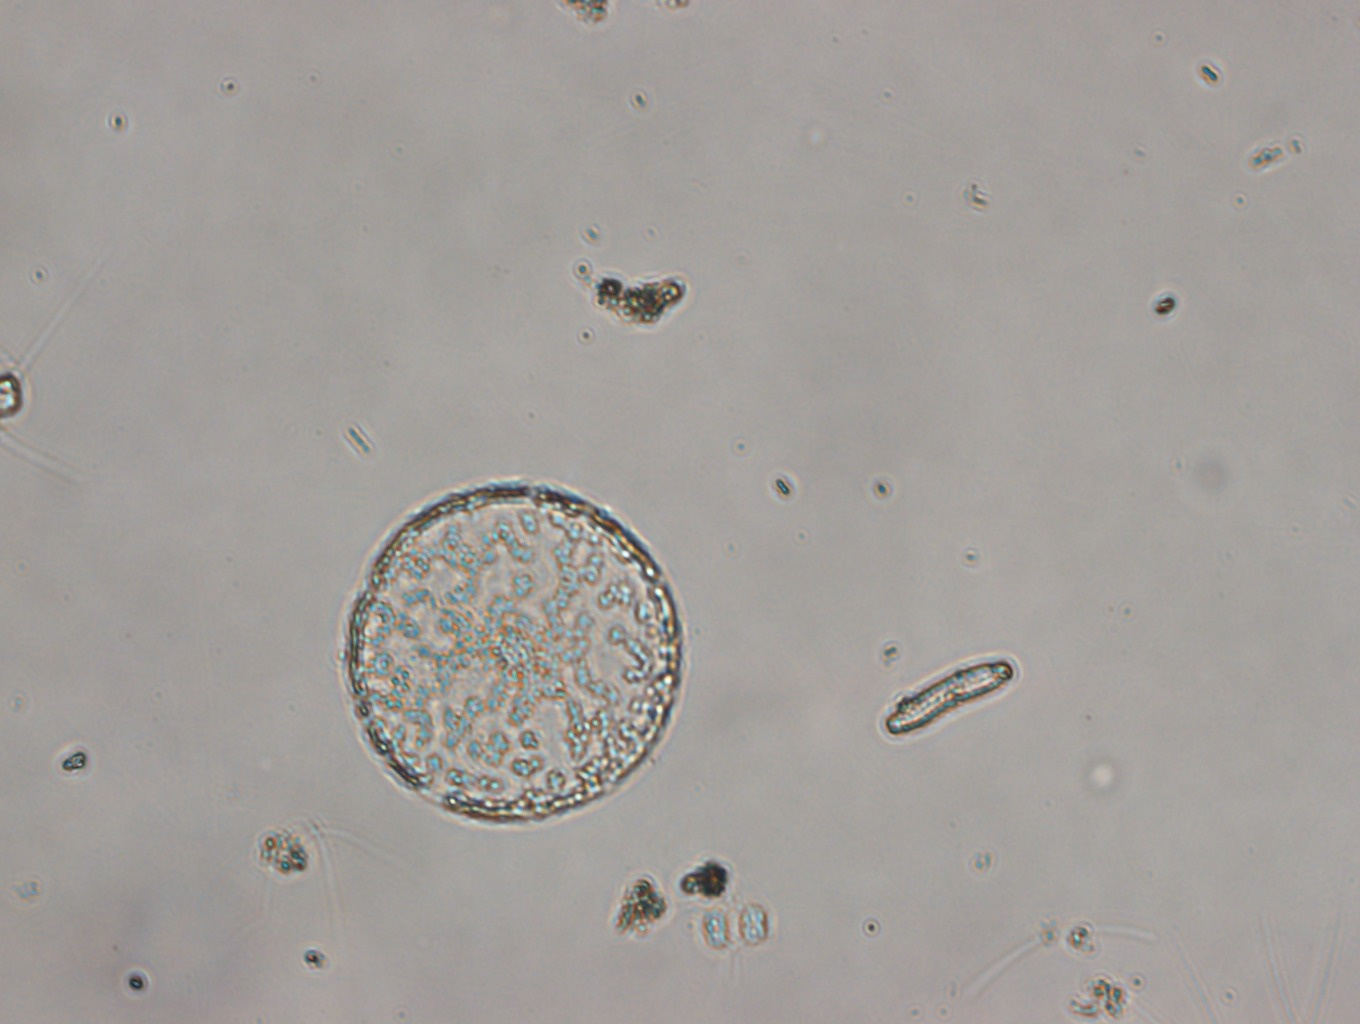coscinodiscus: (334, 480, 689, 830)
